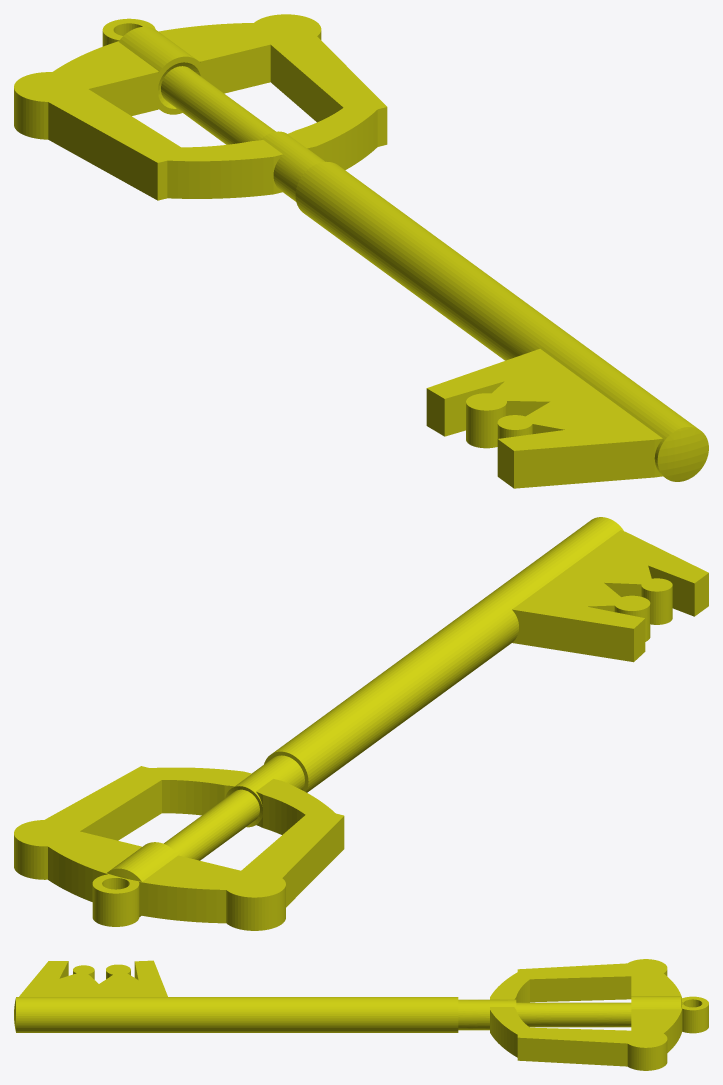
File: key.gltf
3 renders of one model, top to bottom at view 1: azimuth 30°, elevation 25°; view 2: azimuth 150°, elevation 25°; view 3: azimuth 270°, elevation 25°, orthographic. The views are drawn at different scales.
Visible parts, largest first — view 1: Keysword 1; view 2: Keysword 1; view 3: Keysword 1.
Boxes of the visible parts, box(x1,y1,x2,y2) form: Keysword 1: box(14, 14, 708, 488); Keysword 1: box(14, 517, 708, 930); Keysword 1: box(14, 959, 708, 1070).
Size of the model in its own units: 1.65 by 0.2999 by 5.47.
